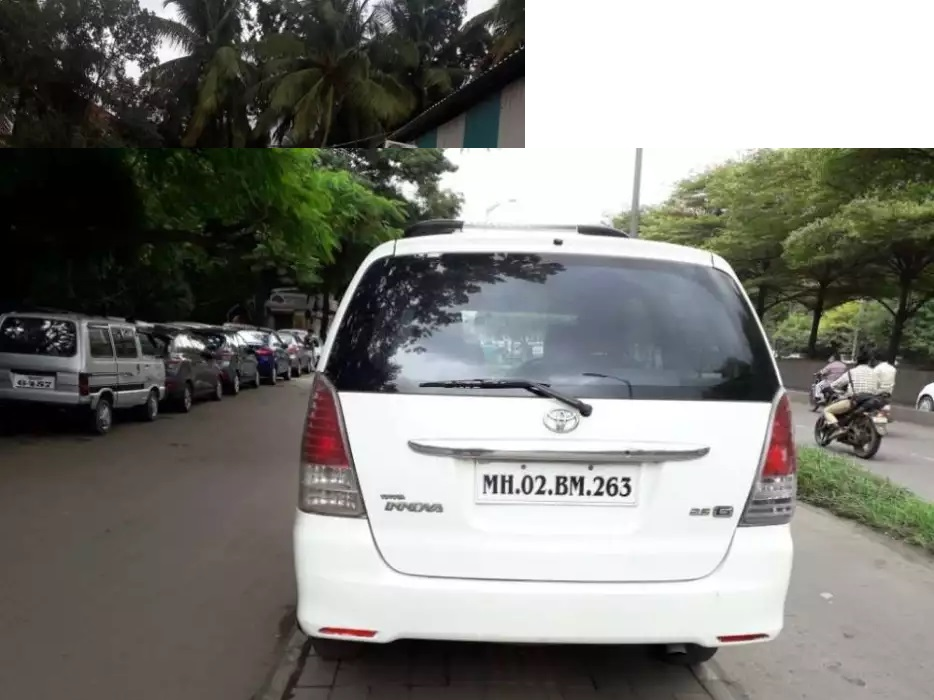licenseplate: (471, 455, 645, 510)
